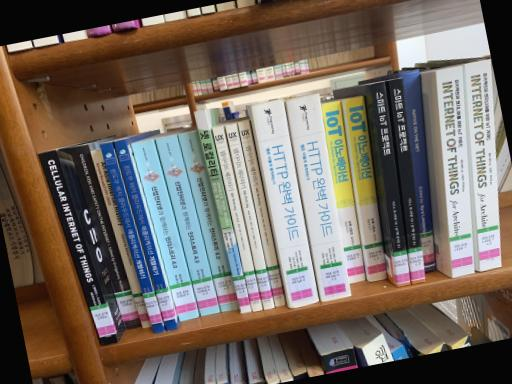book-spine: (39, 150, 118, 346), (251, 98, 319, 309), (286, 93, 351, 301), (70, 144, 140, 329), (130, 140, 199, 322), (100, 142, 165, 334), (114, 139, 177, 331), (155, 135, 220, 316), (194, 110, 251, 314), (178, 131, 239, 313), (91, 150, 151, 328), (212, 126, 263, 312), (225, 124, 274, 310), (238, 120, 285, 306), (435, 66, 474, 278), (343, 96, 387, 282), (370, 82, 410, 286), (387, 78, 425, 285), (465, 59, 502, 271), (322, 101, 365, 283), (402, 70, 436, 273)
